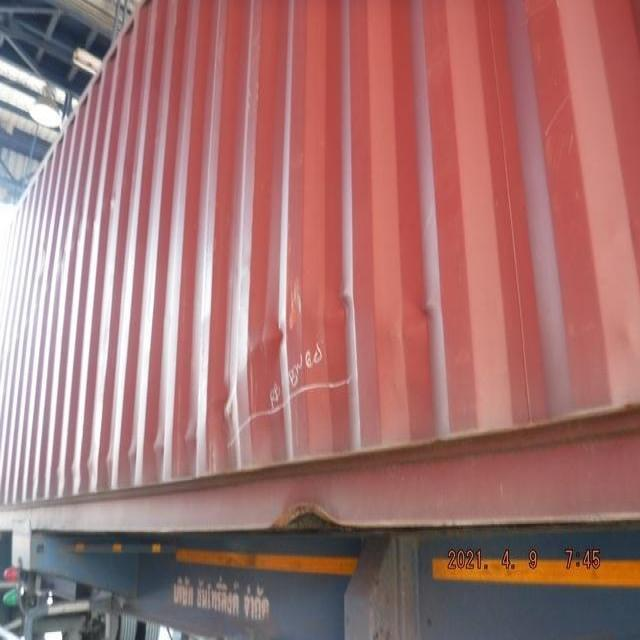Dent: (201, 269, 386, 439)
Minor-Dent: (366, 275, 480, 363), (95, 413, 209, 475)
